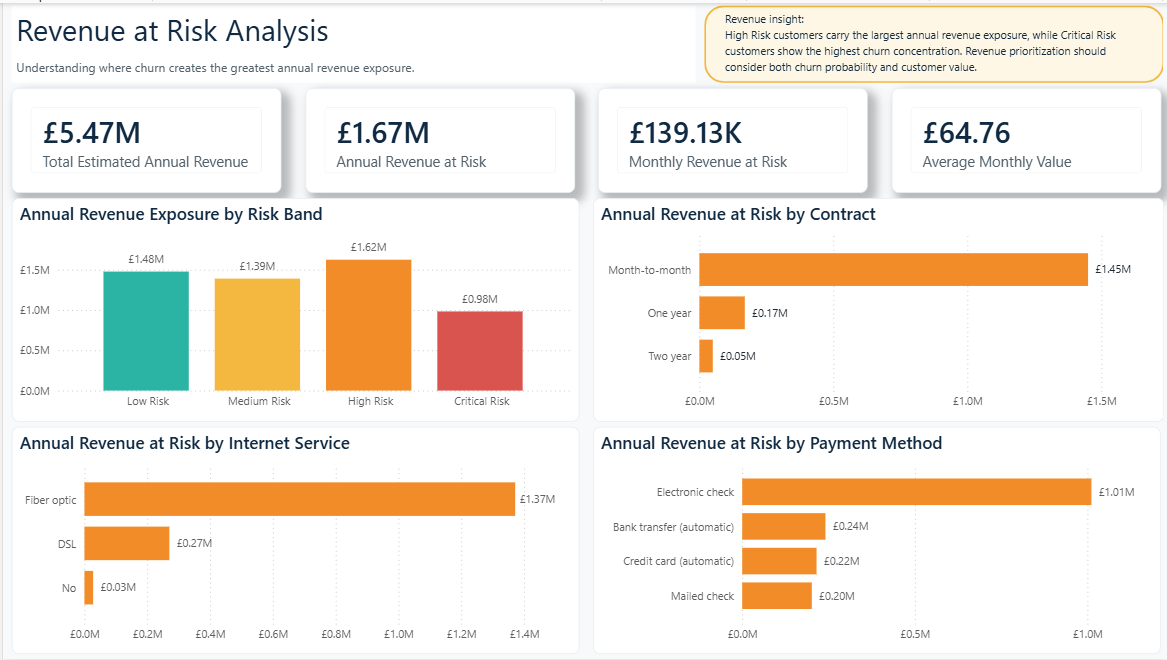

This screenshot's page, from the dashboard's own definition file:
{"tool":"powerbi","page":{"name":"Revenue at Risk","canvas":[1280,720],"ordinal":2},"visuals":[{"type":"textbox","box":[9.6,2.7,750.6,53.5],"z":0},{"type":"textbox","box":[9.6,56.3,750.6,31.6],"z":1000},{"type":"shape","box":[769.8,2.7,505,85.1],"z":2000,"group":"g1"},{"type":"cardVisual","fields":{"Data":["_Measures.Total Estimated Annual Revenue"]},"box":[9.6,93.3,296.4,115.3],"z":2000},{"type":"group","id":"g1","title":"Group 1","box":[769.8,2.1,505,86.4],"z":3000},{"type":"textbox","box":[787.9,2.1,472,86.4],"z":3000,"group":"g1"},{"type":"cardVisual","fields":{"Data":["_Measures.Annual Revenue at Risk"]},"box":[331.6,93.3,296.4,115.3],"z":4000},{"type":"cardVisual","fields":{"Data":["_Measures.Monthly Revenue at Risk"]},"box":[653.6,93.3,296.4,115.3],"z":5000},{"type":"cardVisual","fields":{"Data":["_Measures.Average Monthly Value"]},"box":[975.6,93.3,296.4,115.3],"z":6000},{"type":"clusteredColumnChart","title":"Annual Revenue Exposure by Risk Band","fields":{"Category":["customer_churn_risk_scores.ChurnRiskBand"],"Y":["_Measures.Total Estimated Annual Revenue"]},"box":[9.6,214.1,623,245.6],"z":7000},{"type":"clusteredBarChart","title":"Annual Revenue at Risk by Contract","fields":{"Category":["customer_churn_risk_scores.Contract"],"Y":["_Measures.Annual Revenue at Risk"]},"box":[647.7,214.1,627.1,245.6],"z":8000},{"type":"clusteredBarChart","title":"Annual Revenue at Risk by Internet Service","fields":{"Category":["customer_churn_risk_scores.InternetService"],"Y":["_Measures.Annual Revenue at Risk"]},"box":[9.6,465.2,623,249.7],"z":9000},{"type":"clusteredBarChart","title":"Annual Revenue at Risk by Payment Method","fields":{"Y":["_Measures.Annual Revenue at Risk"],"Category":["customer_churn_risk_scores.PaymentMethod"]},"box":[647.7,465.2,623,249.7],"z":10000}]}

Visuals, with their boxes in screenshot pixels (x1, y1, x2, y2), scaled from the page's 1280x720 canvas onto the 1167x660 screenshot:
textbox: locate(9, 2, 693, 52)
textbox: locate(9, 52, 693, 81)
shape: locate(702, 2, 1162, 80)
cardVisual - _Measures.Total Estimated Annual Revenue: locate(9, 86, 279, 191)
"Group 1" group: locate(702, 2, 1162, 81)
textbox: locate(718, 2, 1149, 81)
cardVisual - _Measures.Annual Revenue at Risk: locate(302, 86, 573, 191)
cardVisual - _Measures.Monthly Revenue at Risk: locate(596, 86, 866, 191)
cardVisual - _Measures.Average Monthly Value: locate(889, 86, 1160, 191)
"Annual Revenue Exposure by Risk Band" clusteredColumnChart: locate(9, 196, 577, 421)
"Annual Revenue at Risk by Contract" clusteredBarChart: locate(591, 196, 1162, 421)
"Annual Revenue at Risk by Internet Service" clusteredBarChart: locate(9, 426, 577, 655)
"Annual Revenue at Risk by Payment Method" clusteredBarChart: locate(591, 426, 1159, 655)
